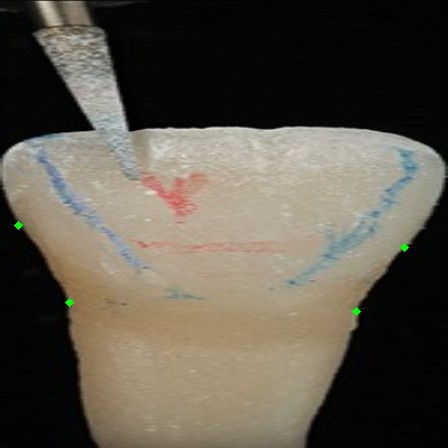coin_1: (356, 311, 376, 331)
coin_2: (404, 247, 424, 267)
coin_3: (69, 302, 89, 322)
coin_4: (18, 225, 38, 245)
